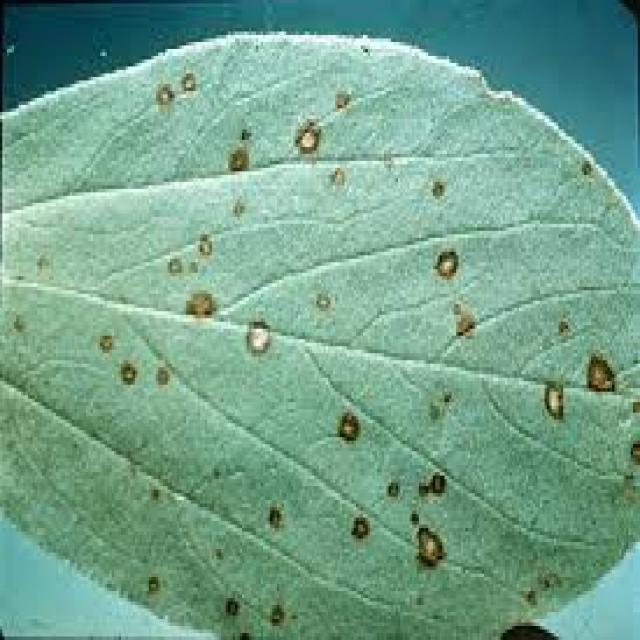bercak_daun: (103, 35, 640, 620)
